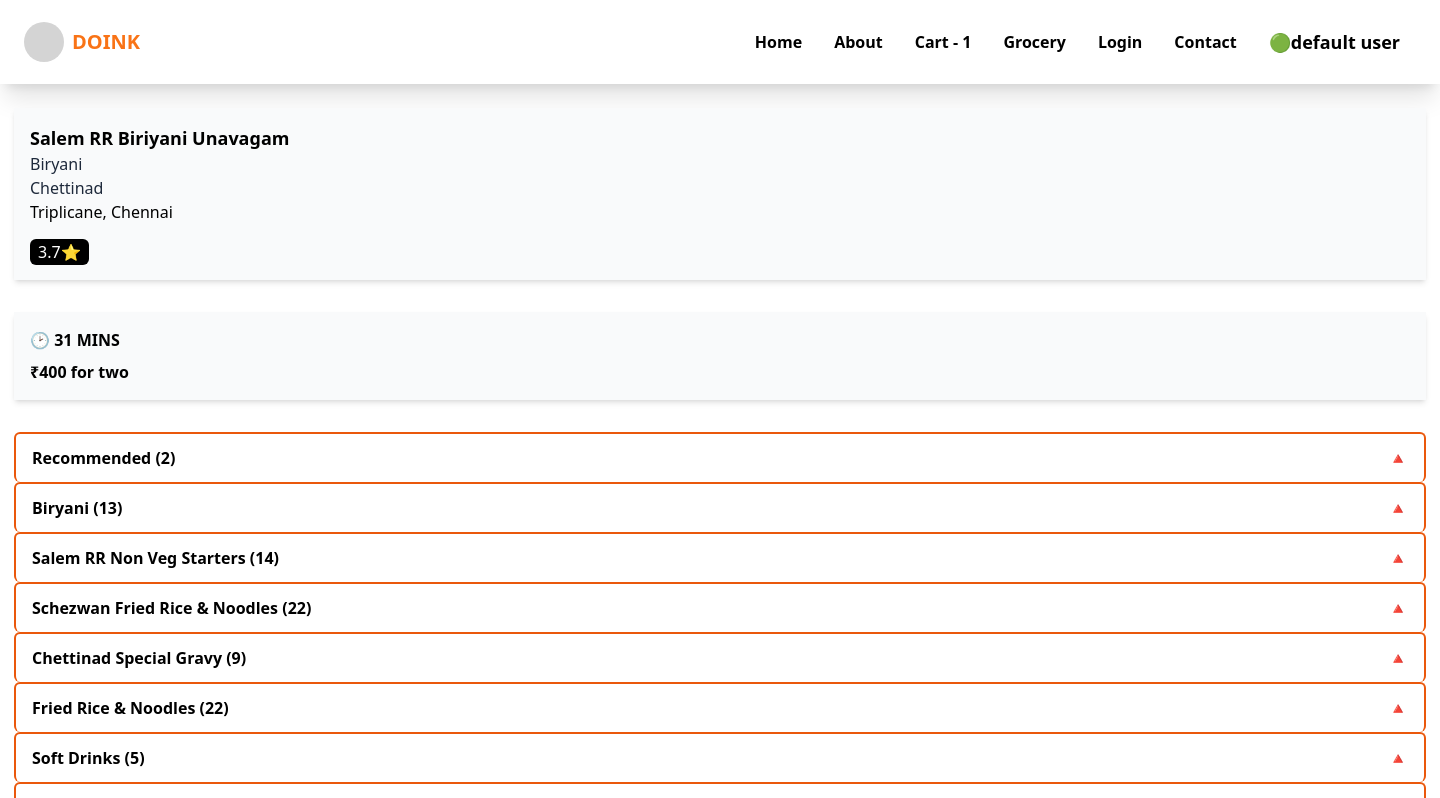
Test: test the cart flow › should display cart items as two in header aftr clicking 1st and 2nd biryani item
Click the heading "Biryani (13)".
click(77, 508)  # box [32,496,122,520]
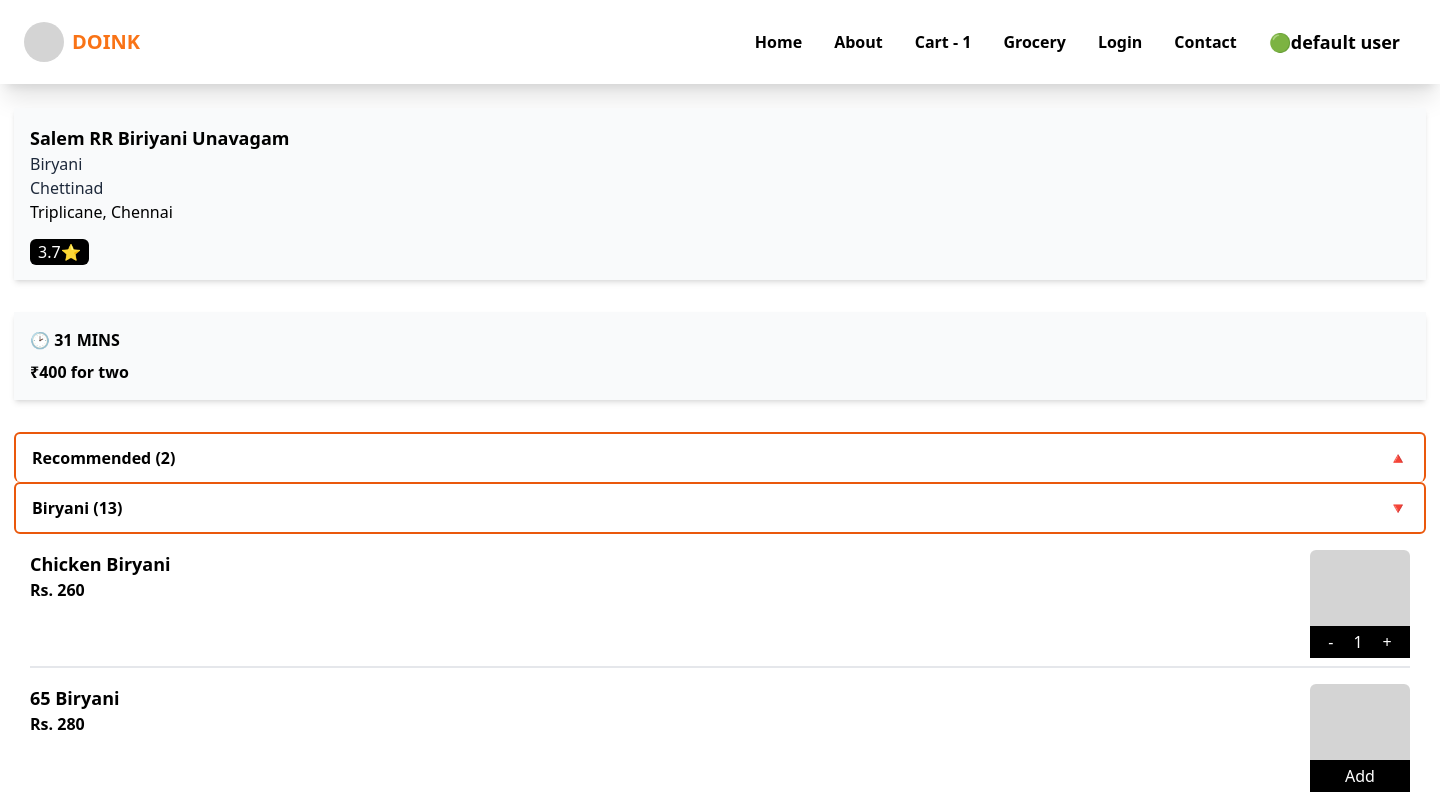
Click the button with test id "addItem" showing "+".
click(1387, 642)  # box [1379,630,1396,654]
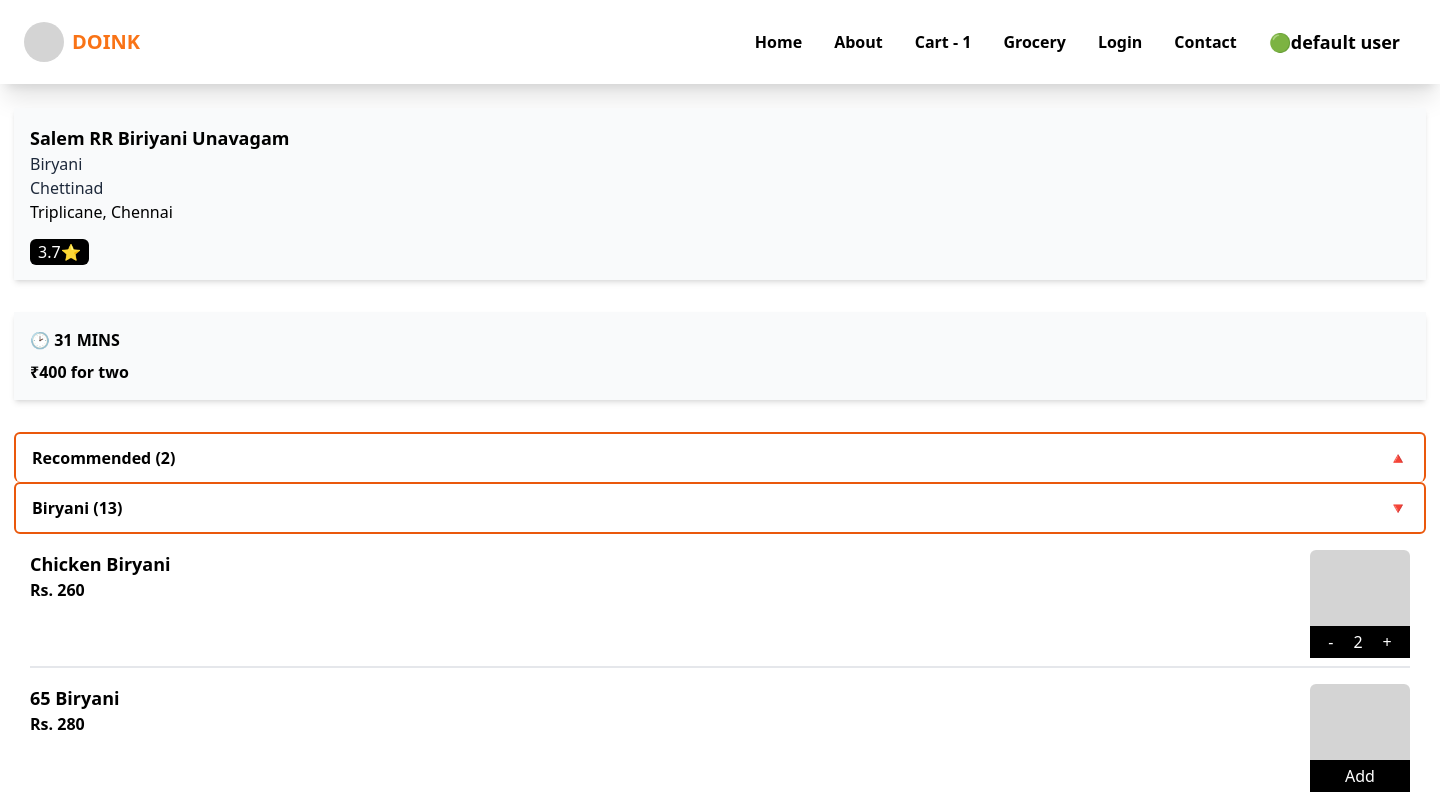
Click the button with test id "addItem" showing "Add".
click(1360, 776)  # box [1341,764,1379,788]
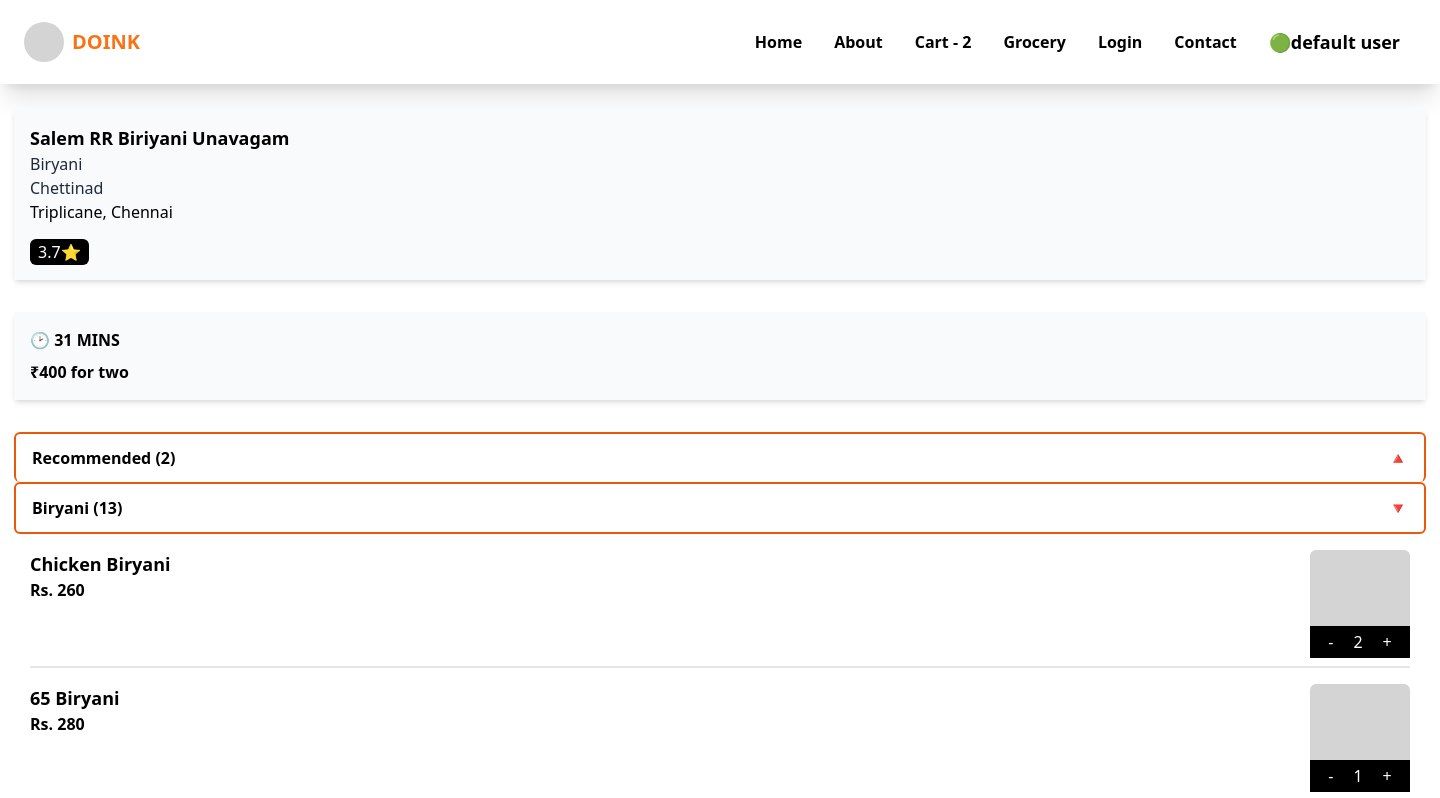
Result: the link "Cart - 2" is shown at [915,31,971,53]
